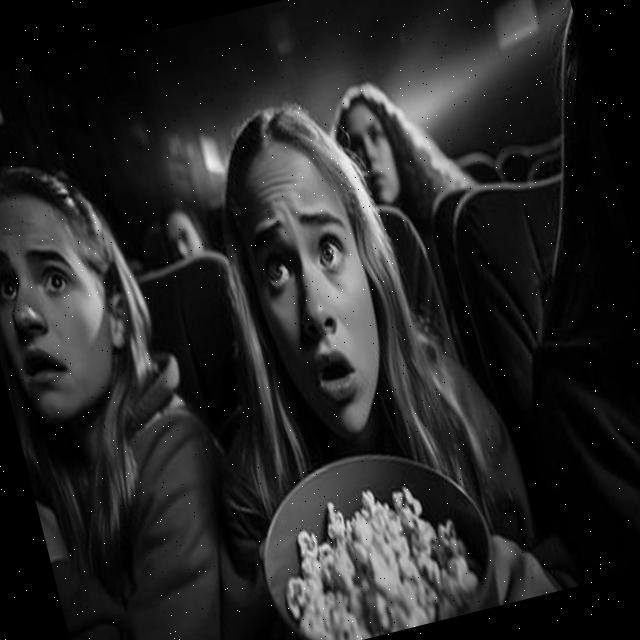Fear: (224, 134, 404, 448), (0, 186, 122, 429)
